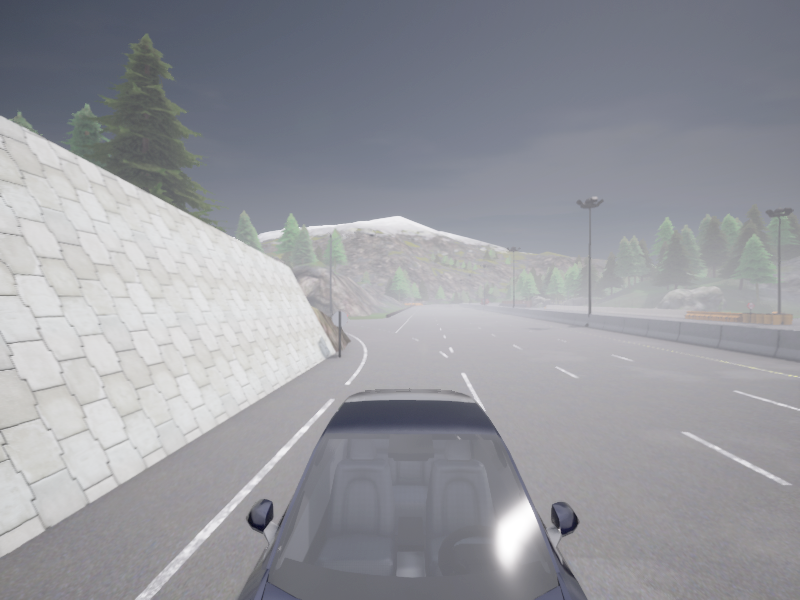vehicle: (237, 389, 587, 599), (482, 298, 489, 304)
